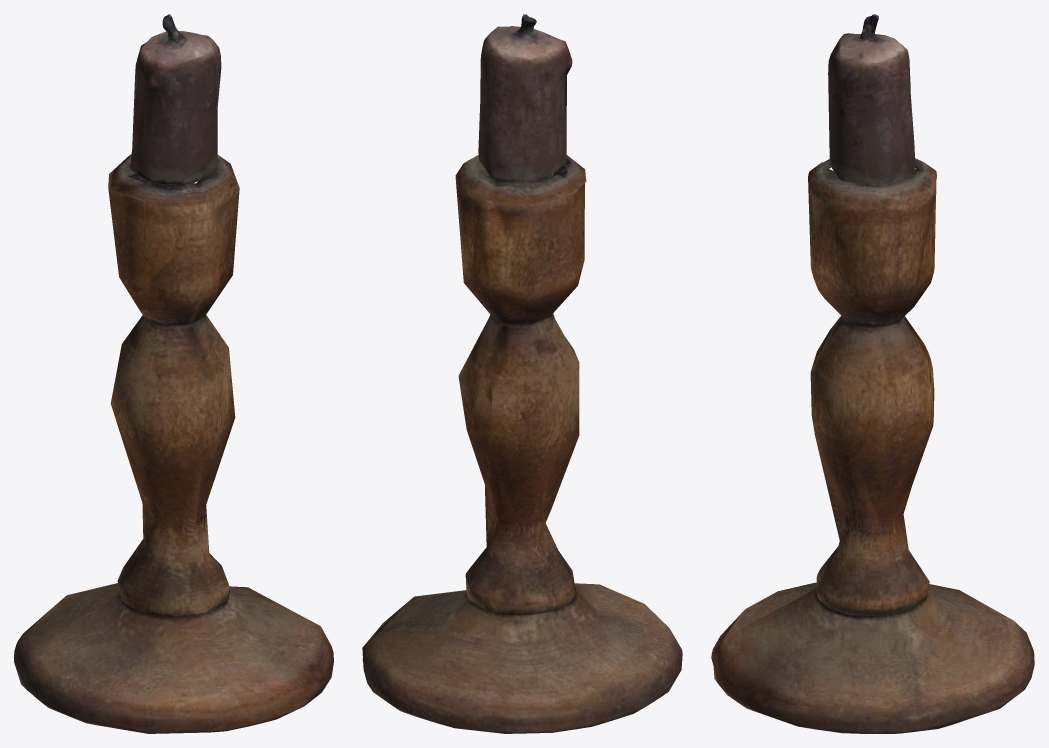
The model's file is wooden_candlestick.glb.
3 renders of one model, left to right at view 1: azimuth 30°, elevation 25°; view 2: azimuth 150°, elevation 25°; view 3: azimuth 270°, elevation 25°, orthographic.
Visible parts, largest first — view 1: wooden_candlestick; view 2: wooden_candlestick; view 3: wooden_candlestick.
Boxes of the visible parts, x1,y1,x2,y2 form: wooden_candlestick: (14,14,333,733); wooden_candlestick: (362,14,682,733); wooden_candlestick: (711,14,1034,733).
Size of the model in its own units: 0.0971 by 0.2196 by 0.0986.
Materials: 1 (1 with a texture image).
